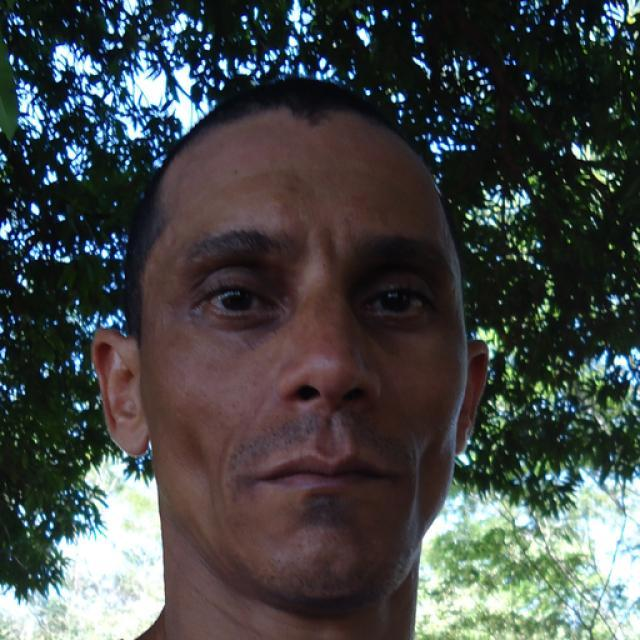anger: (144, 110, 465, 605)
